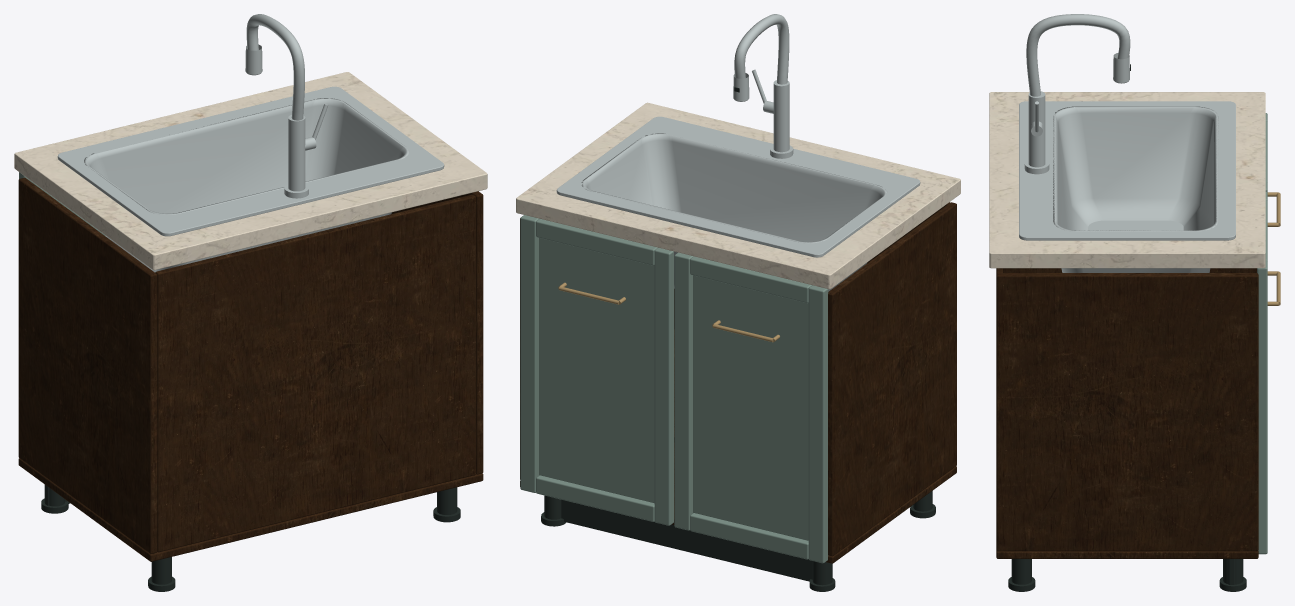
File: cabinet-sink-base.glb
3 renders of one model, left to right at view 1: azimuth 30°, elevation 25°; view 2: azimuth 150°, elevation 25°; view 3: azimuth 270°, elevation 25°, orthographic. The views are drawn at different scales.
Parts seen in each view (by area): view 1: walnut_surfaces, steel_surfaces, stone_surfaces, dark_surfaces; view 2: sage_surfaces, walnut_surfaces, steel_surfaces, stone_surfaces, dark_surfaces, bronze_surfaces; view 3: walnut_surfaces, steel_surfaces, stone_surfaces, sage_surfaces, dark_surfaces, bronze_surfaces.
Part boxes in pixels (x1,y1,x2,y2): walnut_surfaces: (18,177,483,561); steel_surfaces: (57,14,444,272); stone_surfaces: (14,72,487,270); dark_surfaces: (41,484,460,591); sage_surfaces: (520,215,828,563); walnut_surfaces: (520,202,956,563); steel_surfaces: (556,14,920,291); stone_surfaces: (516,102,960,289); dark_surfaces: (541,87,935,591); bronze_surfaces: (558,282,779,342); walnut_surfaces: (996,268,1258,558); steel_surfaces: (1019,14,1235,272); stone_surfaces: (989,92,1265,268); sage_surfaces: (1257,113,1267,554); dark_surfaces: (1008,64,1246,591); bronze_surfaces: (1267,192,1280,305).
Bounding box in the file's own units: 0.904 × 1.31 × 0.6895.
7 materials, 3 textured.
